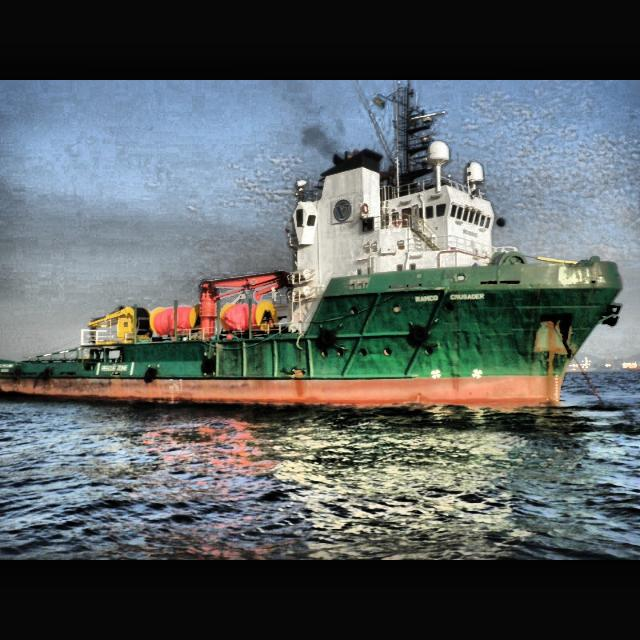anchor_handling_tug_supply: (1, 130, 625, 414)
